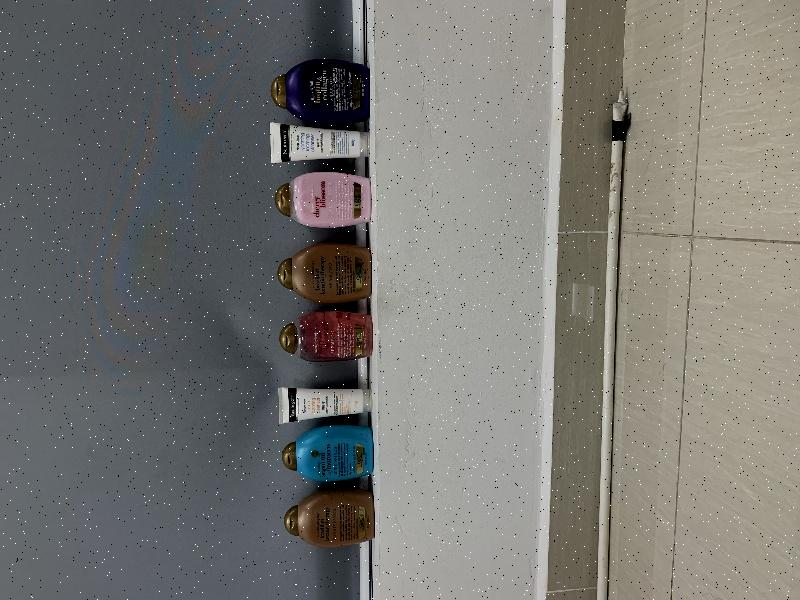AcneFoamingCleanser: (278, 387, 373, 424)
ArganOilOfMorocco_Conditioner: (282, 425, 374, 482)
BiotinCollagen_Shampoo: (271, 59, 370, 123)
BrazilianKeratinTherapy_Shampoo: (277, 243, 372, 303)
BrazilianKerationTherapy_Conditioner: (284, 489, 375, 548)
CherryBlossom_Conditioner: (275, 172, 372, 228)
CherryBlossom_Shampoo: (279, 311, 373, 362)
HydratingFoamingCleanser: (270, 123, 370, 163)
